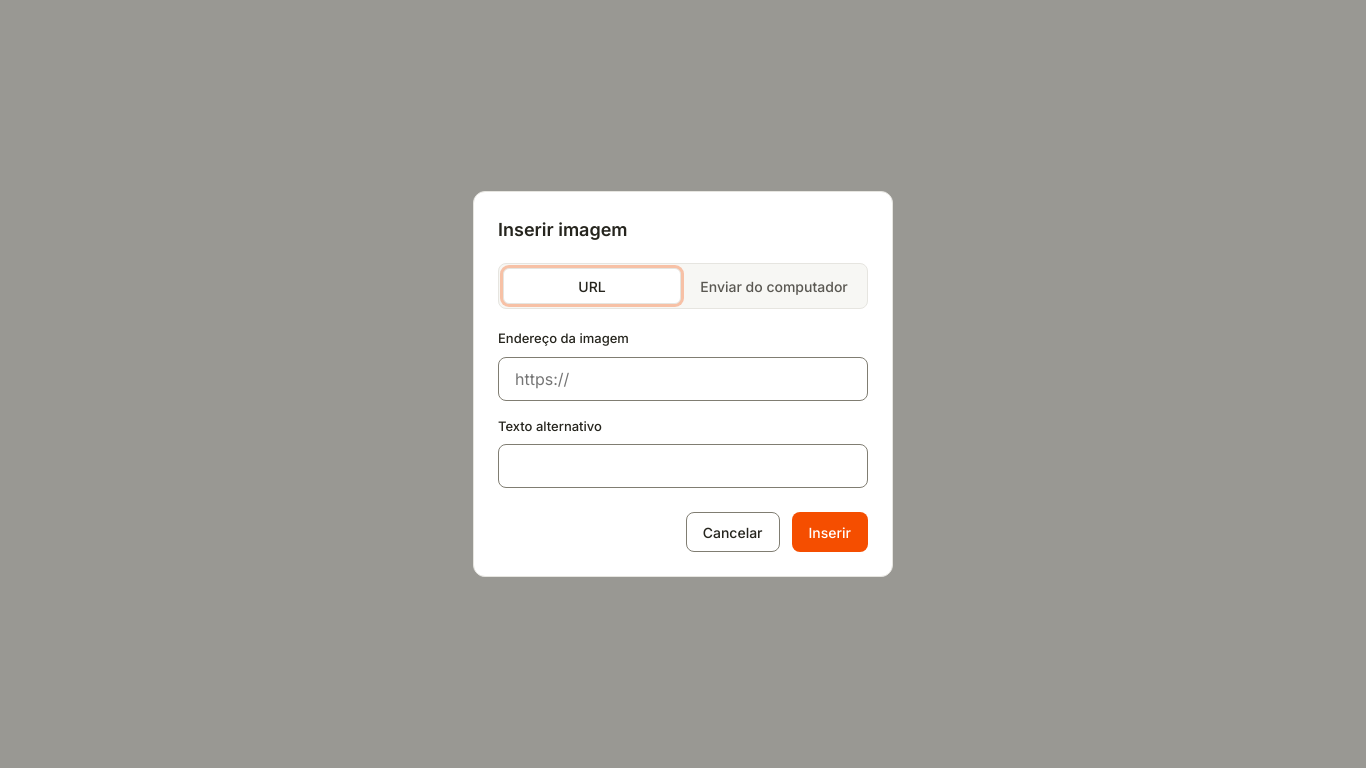
it: ImageDialog — aba URL › endereço vazio pede o endereço
Click the button "Inserir" at (830, 532), box [792, 512, 868, 552]
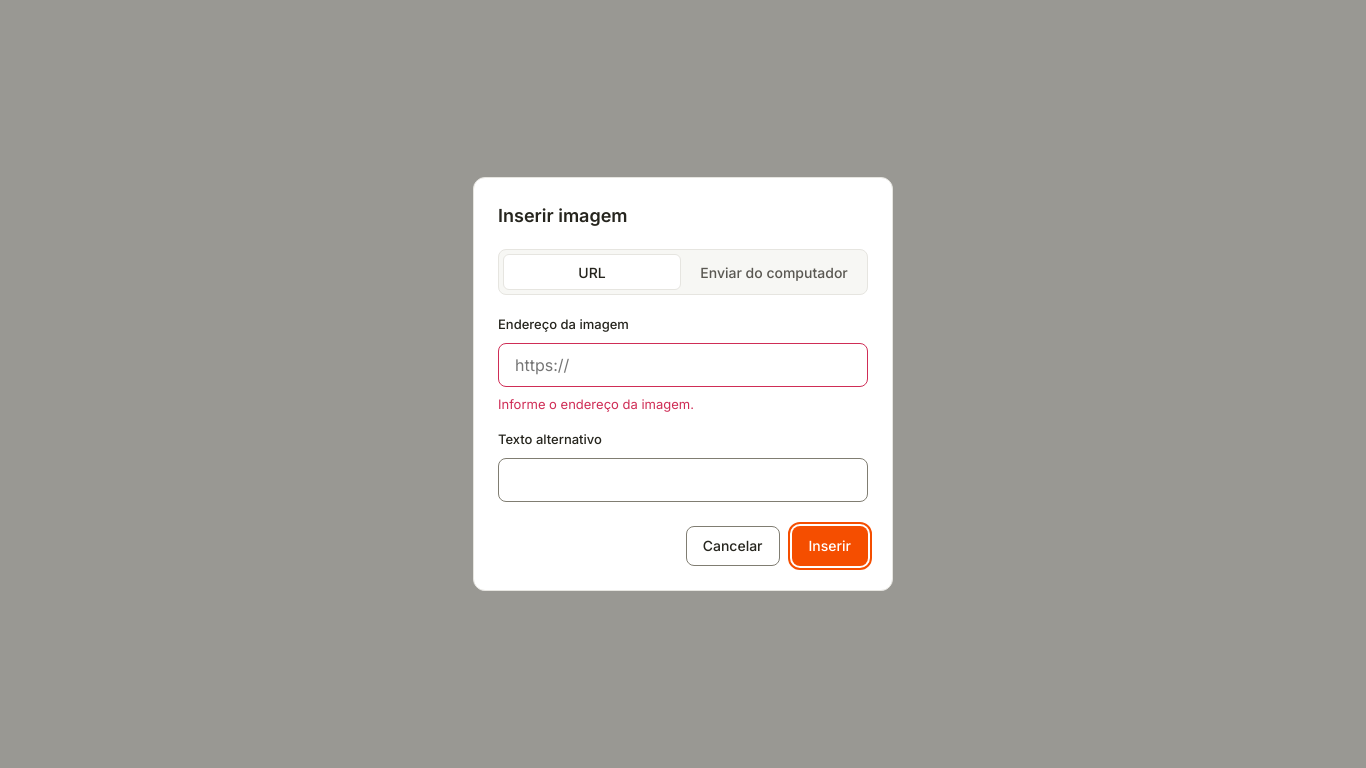
Expected: the text "Informe o endereço da imagem." is shown, [498, 396, 694, 412]
